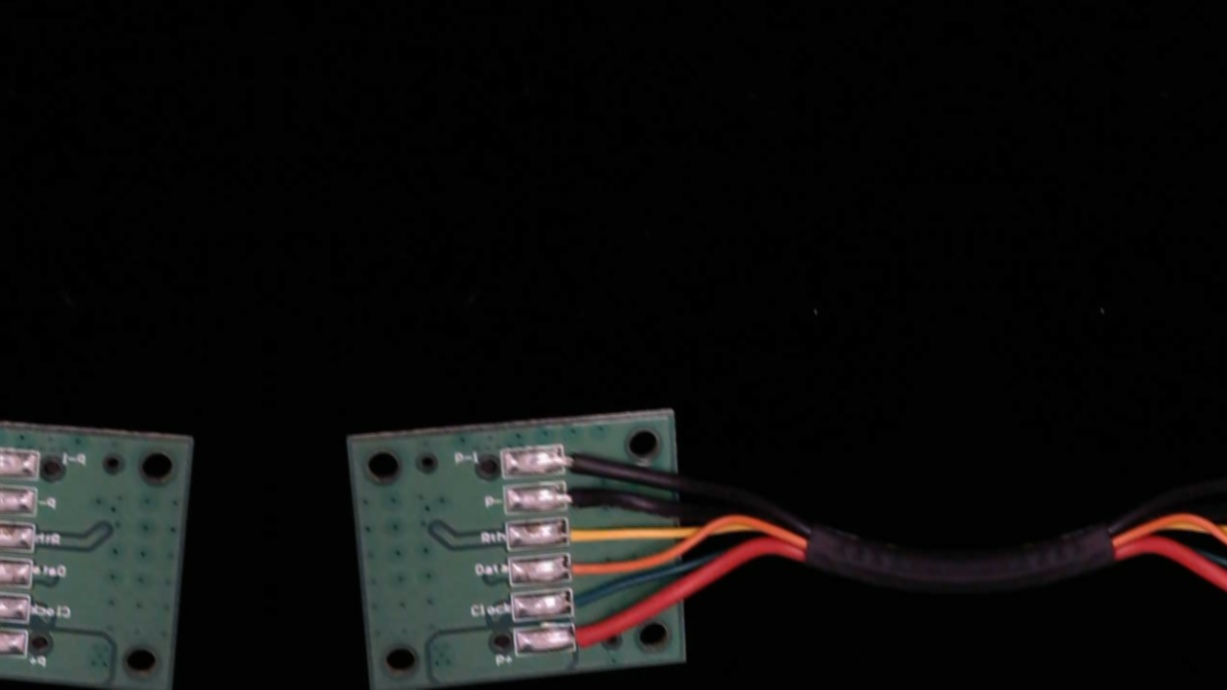Black: (550, 484, 611, 511)
Black1: (550, 445, 609, 476)
Green: (559, 583, 603, 619)
Orange: (556, 553, 607, 584)
Red: (560, 619, 602, 657)
Yellow: (552, 518, 606, 547)
